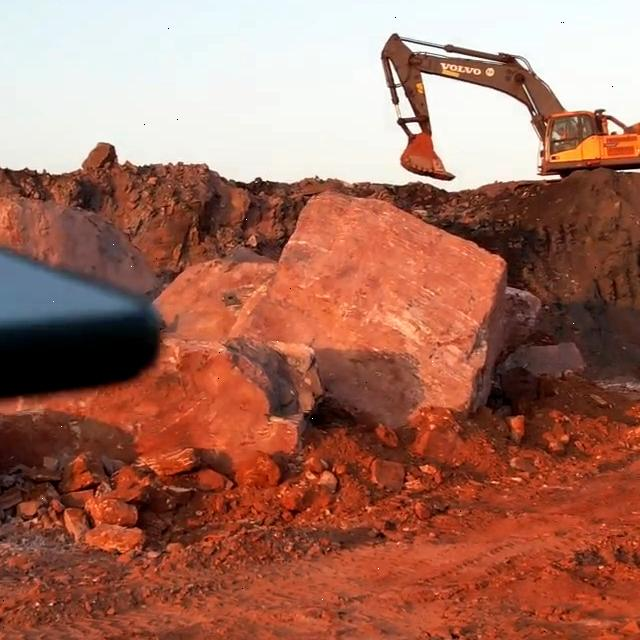Excavator: (379, 30, 640, 182), (552, 115, 640, 162)
